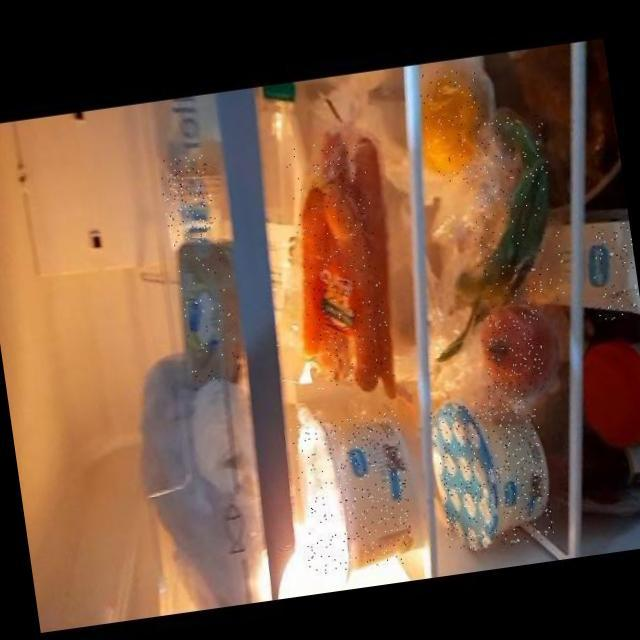Mantequilla: (174, 241, 245, 384)
Yogur: (290, 409, 418, 577), (428, 394, 555, 554), (158, 154, 218, 246)
Zanahoria: (284, 138, 395, 392)
